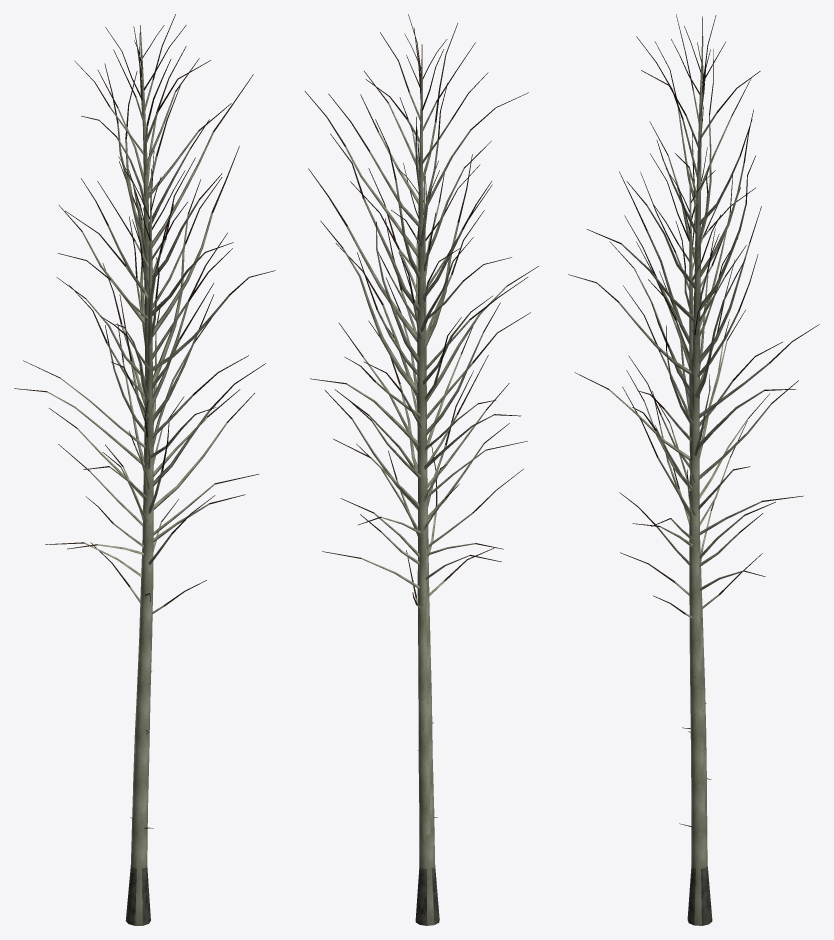
The model's file is aspen_wood.glb.
3 renders of one model, left to right at view 1: azimuth 30°, elevation 25°; view 2: azimuth 150°, elevation 25°; view 3: azimuth 270°, elevation 25°, orthographic.
Parts seen in each view (by area): view 1: aspen_a, aspen_b; view 2: aspen_a, aspen_b; view 3: aspen_a, aspen_b.
Boxes of the visible parts, x1,y1,x2,y2 form: aspen_a: [14, 14, 275, 925]; aspen_b: [23, 150, 265, 798]; aspen_a: [305, 14, 538, 925]; aspen_b: [322, 160, 530, 843]; aspen_a: [568, 14, 819, 925]; aspen_b: [619, 147, 798, 831].
Bounding box in the file's own units: 5.41 × 20.27 × 5.15.
3 materials, 3 textured.
